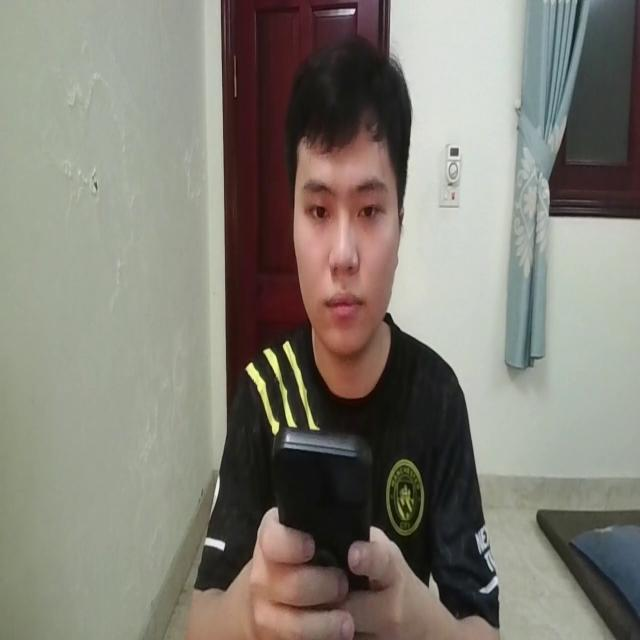phone: (268, 417, 377, 599)
student: (194, 30, 504, 640)
